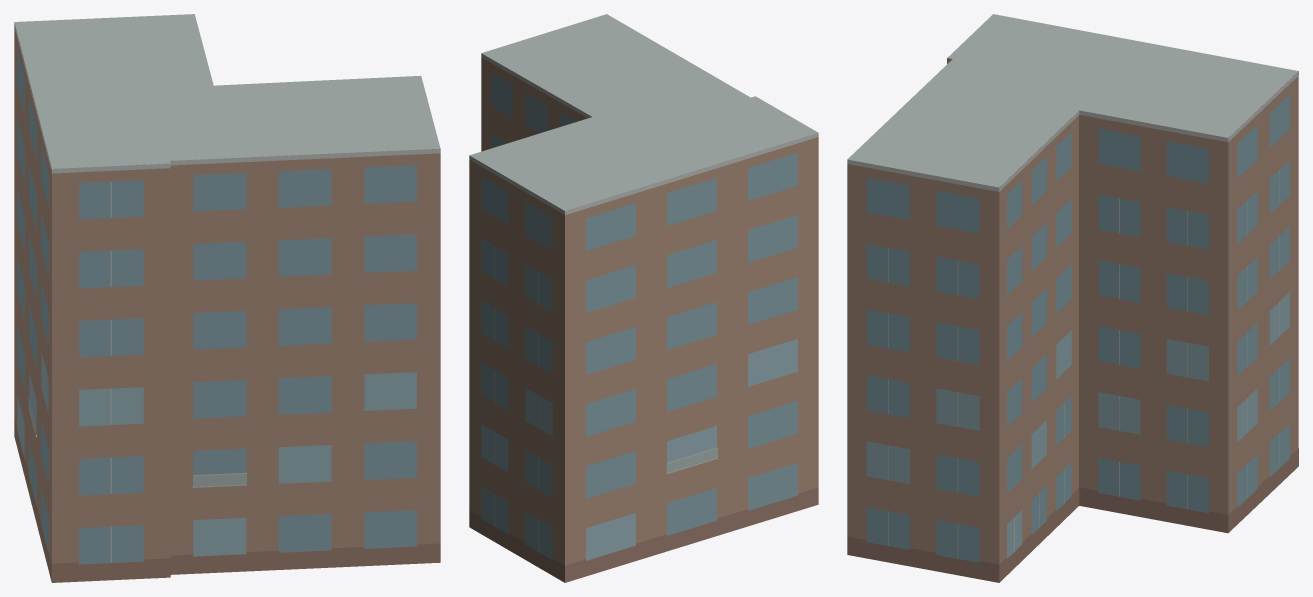
The model's file is survey-upis-32522905.glb.
3 views of the same model, side by side, from view 1: azimuth 30°, elevation 25°; view 2: azimuth 150°, elevation 25°; view 3: azimuth 270°, elevation 25° (orthographic). The views are drawn at different scales.
Parts seen in each view (by area): view 1: survey-upis-32522905.tmp; view 2: survey-upis-32522905.tmp; view 3: survey-upis-32522905.tmp.
Boxes of the visible parts, <box> form: survey-upis-32522905.tmp: <box>14,14,440,582</box>; survey-upis-32522905.tmp: <box>469,14,818,582</box>; survey-upis-32522905.tmp: <box>847,14,1298,582</box>.
Bounding box in the file's own units: 20.58 × 21.85 × 22.63.
